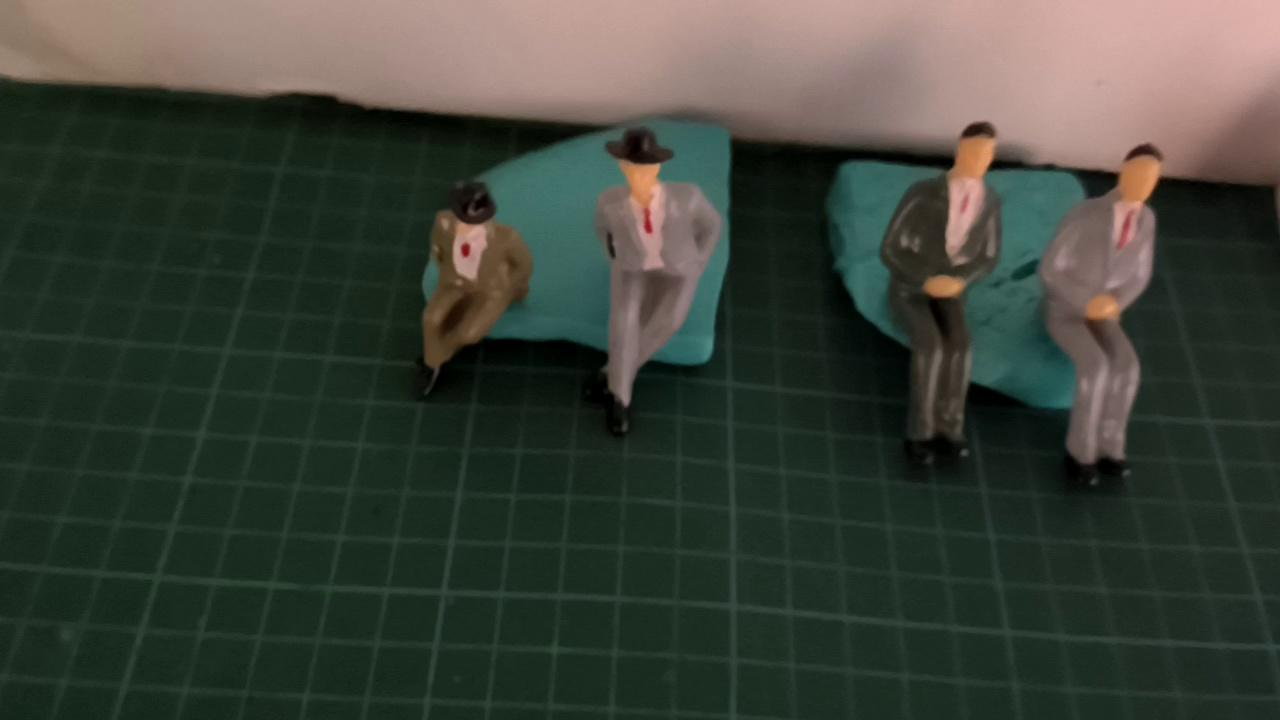human: (1034, 140, 1173, 494), (887, 122, 1006, 484), (593, 122, 725, 440), (419, 176, 529, 404)
